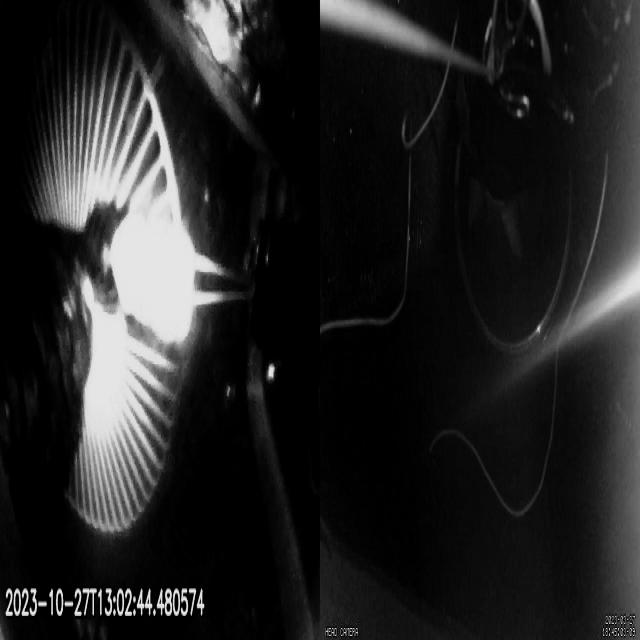head: (116, 214, 195, 346)
